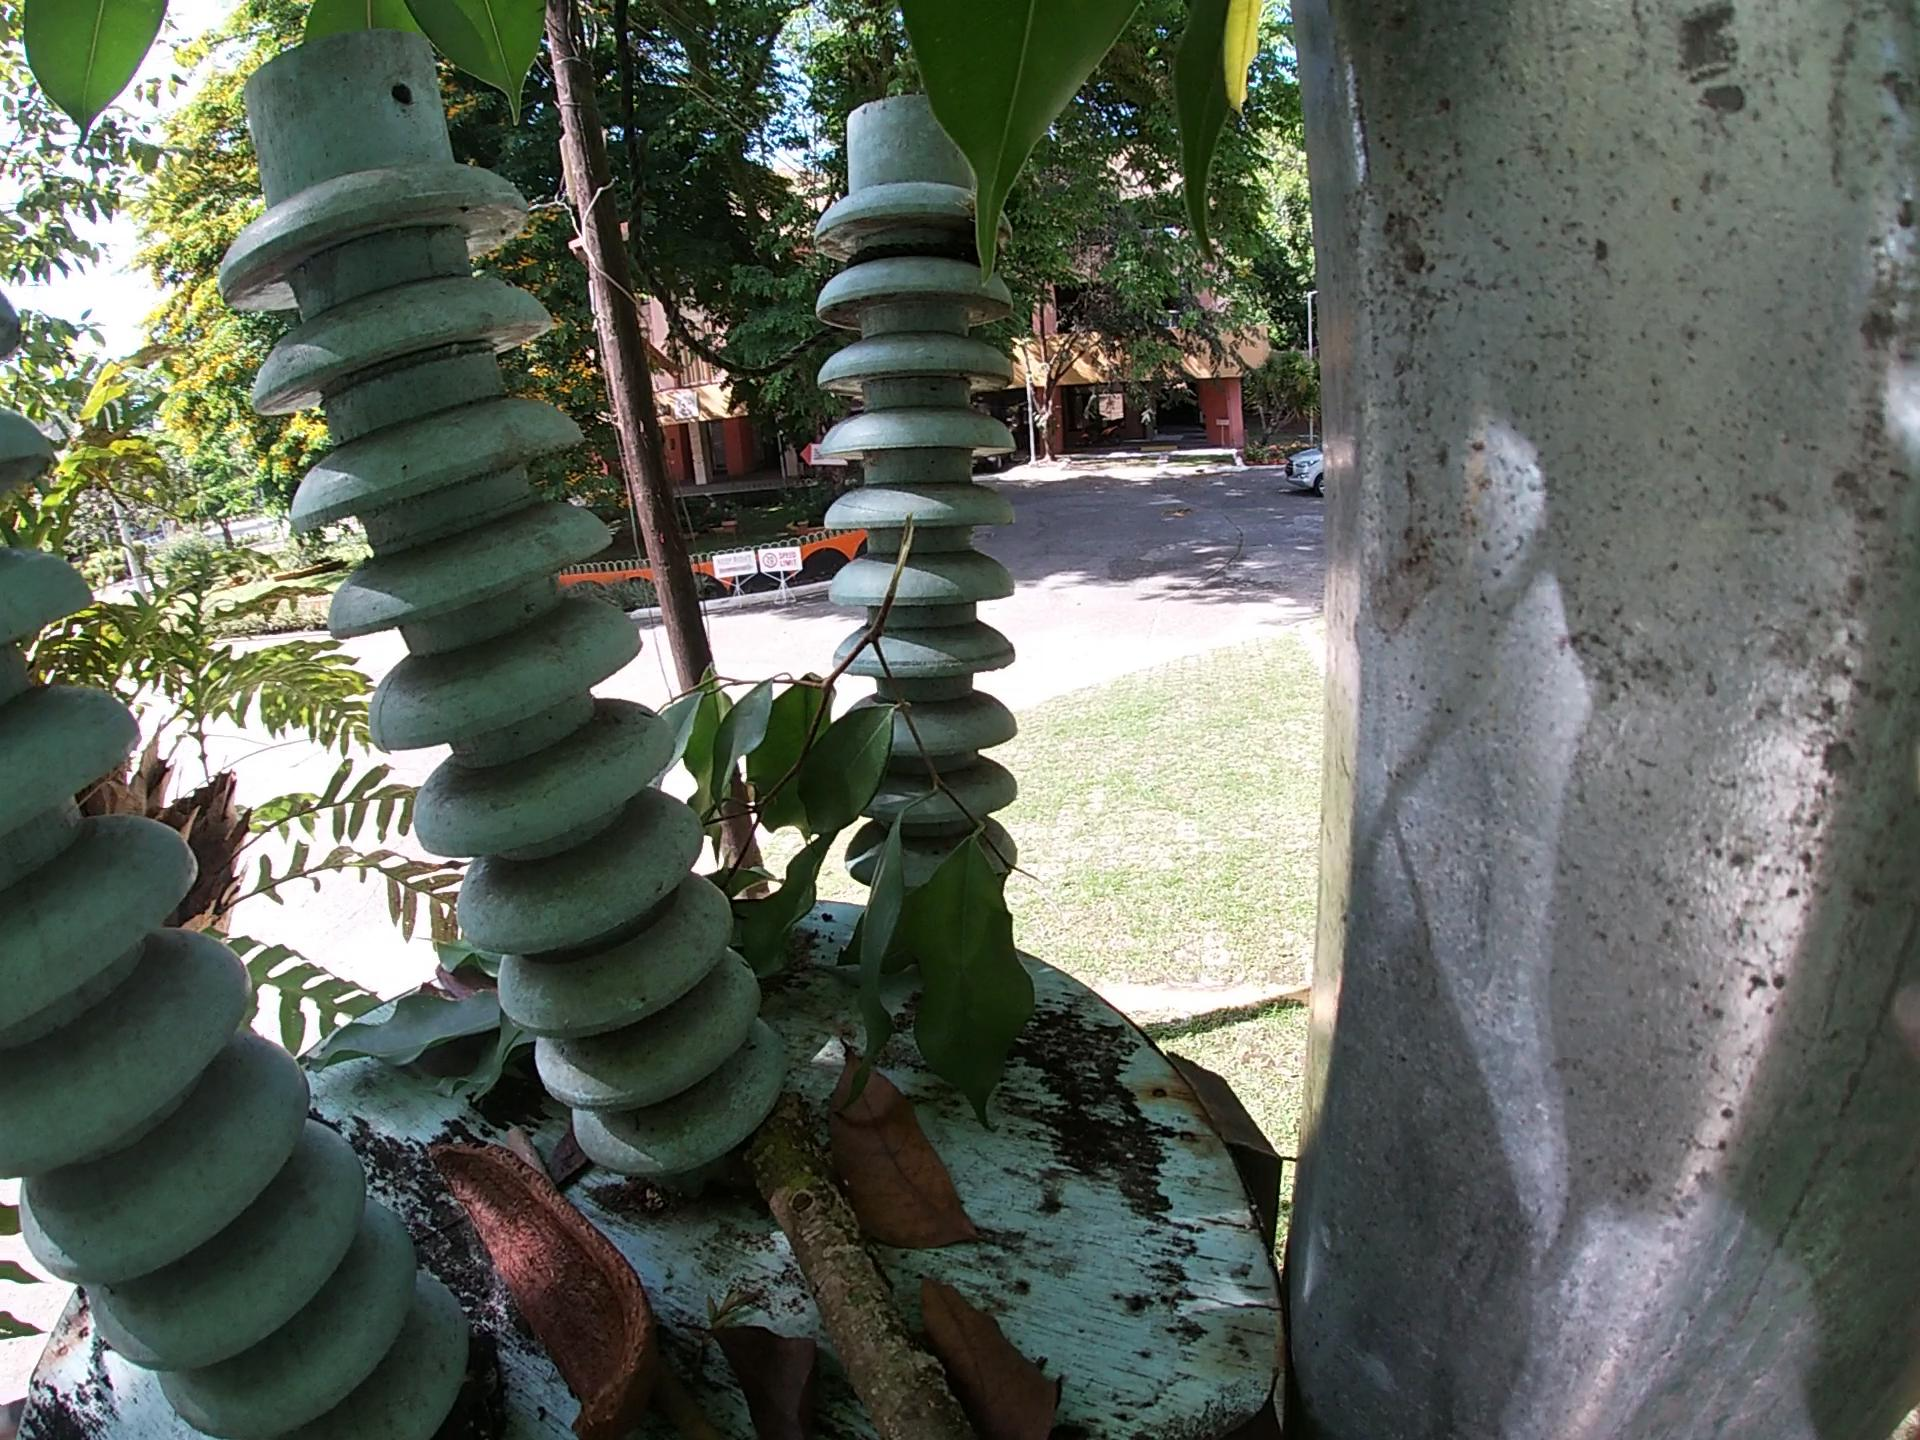branch with leaves: (661, 513, 1069, 1110)
leaf: (299, 935, 579, 1142), (822, 1029, 995, 1284), (919, 1272, 1072, 1440), (700, 1286, 842, 1435), (1181, 1355, 1306, 1440)
mahogany fruit: (417, 1125, 653, 1422)
tree branch: (726, 1109, 971, 1440)
